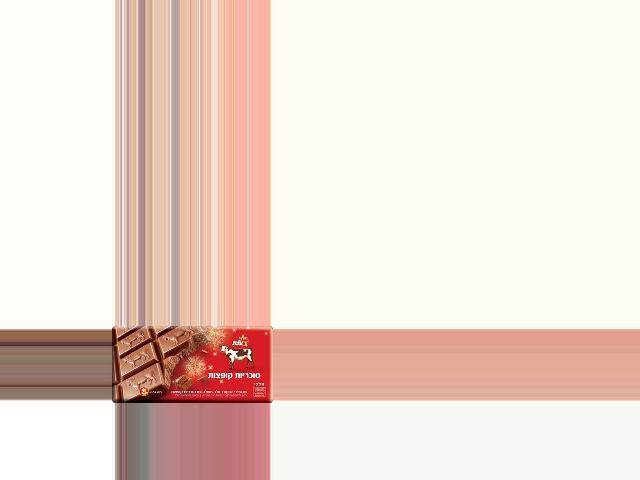chocolate: (112, 326, 273, 402)
